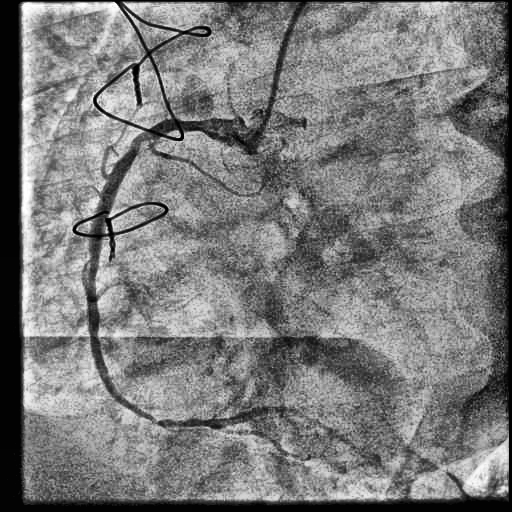pborca: (223, 406, 366, 455)
rca: (85, 118, 247, 429)
